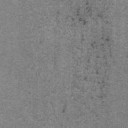oxide scale of temperature system: (66, 0, 110, 25), (90, 34, 112, 66), (90, 80, 106, 104), (80, 32, 86, 44), (61, 104, 67, 114), (82, 76, 88, 82), (86, 57, 91, 64), (56, 10, 61, 14), (94, 71, 99, 75)
